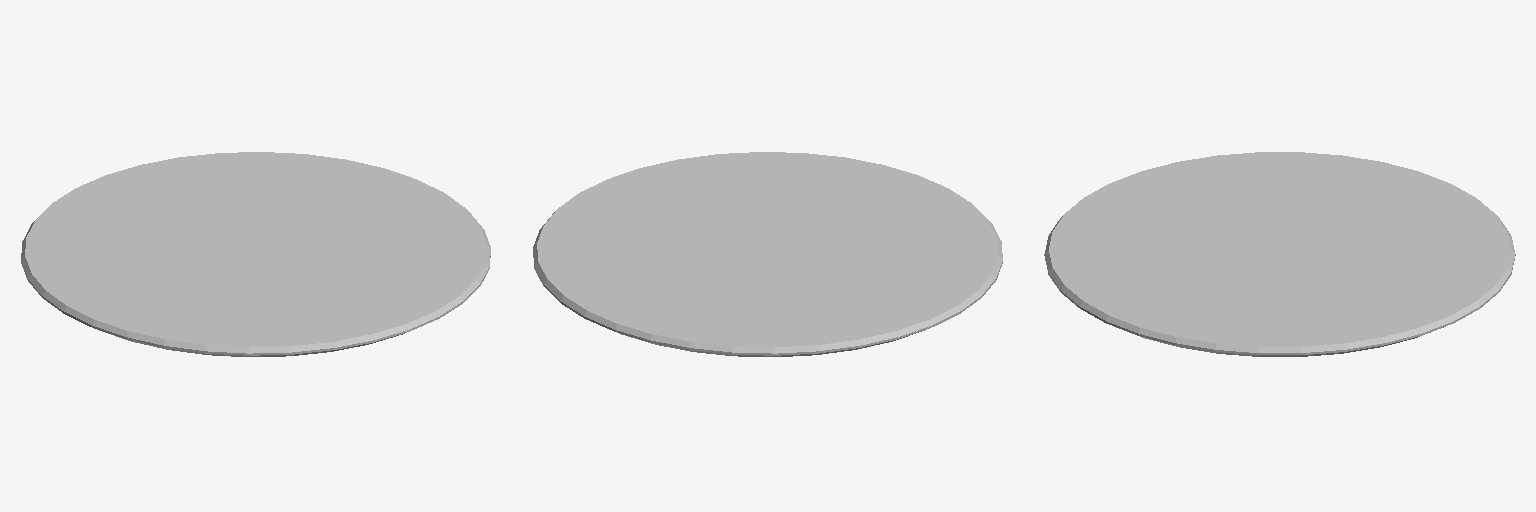
Rendered from ROOM_HOLOGRAM.obj.
3 renders of one model, left to right at view 1: azimuth 30°, elevation 25°; view 2: azimuth 150°, elevation 25°; view 3: azimuth 270°, elevation 25°, orthographic.
Visible parts, largest first — view 1: Circle.001_Circle.006; view 2: Circle.001_Circle.006; view 3: Circle.001_Circle.006.
Boxes of the visible parts, x1=… form: Circle.001_Circle.006: x1=21, y1=152, x2=490, y2=355; Circle.001_Circle.006: x1=533, y1=152, x2=1002, y2=355; Circle.001_Circle.006: x1=1044, y1=152, x2=1515, y2=354.
Bounding box in the file's own units: 9.78 × 0.2945 × 9.82.